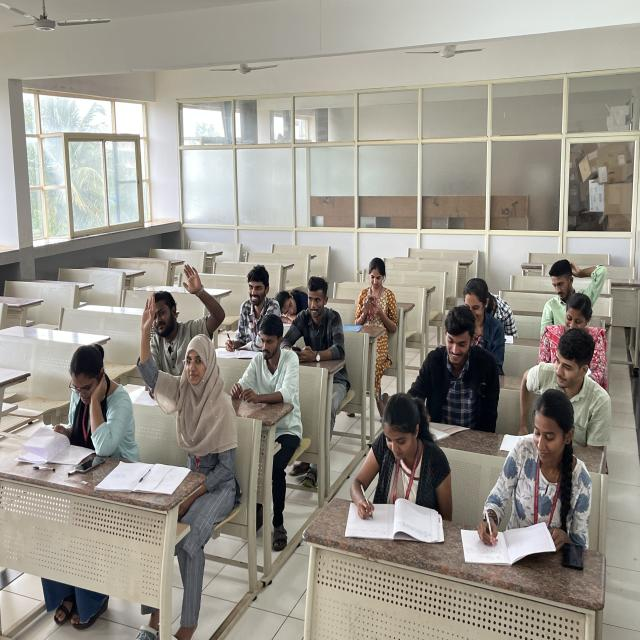Hand Rising: (136, 295, 234, 465), (137, 260, 220, 376)
Reading: (24, 338, 125, 454)
Sleeping: (481, 269, 521, 338)
Using Phone: (282, 277, 346, 359), (355, 258, 403, 326)
Writing: (456, 390, 564, 555), (346, 399, 444, 543), (421, 304, 498, 439), (224, 262, 284, 354)
